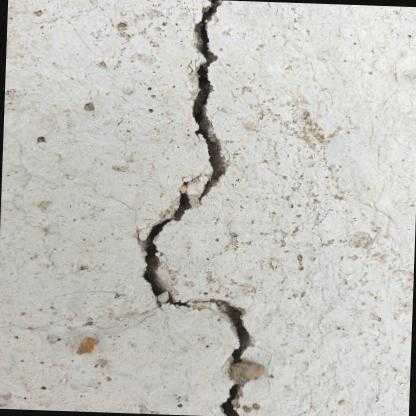crack: (139, 177, 264, 416), (191, 0, 225, 206)
